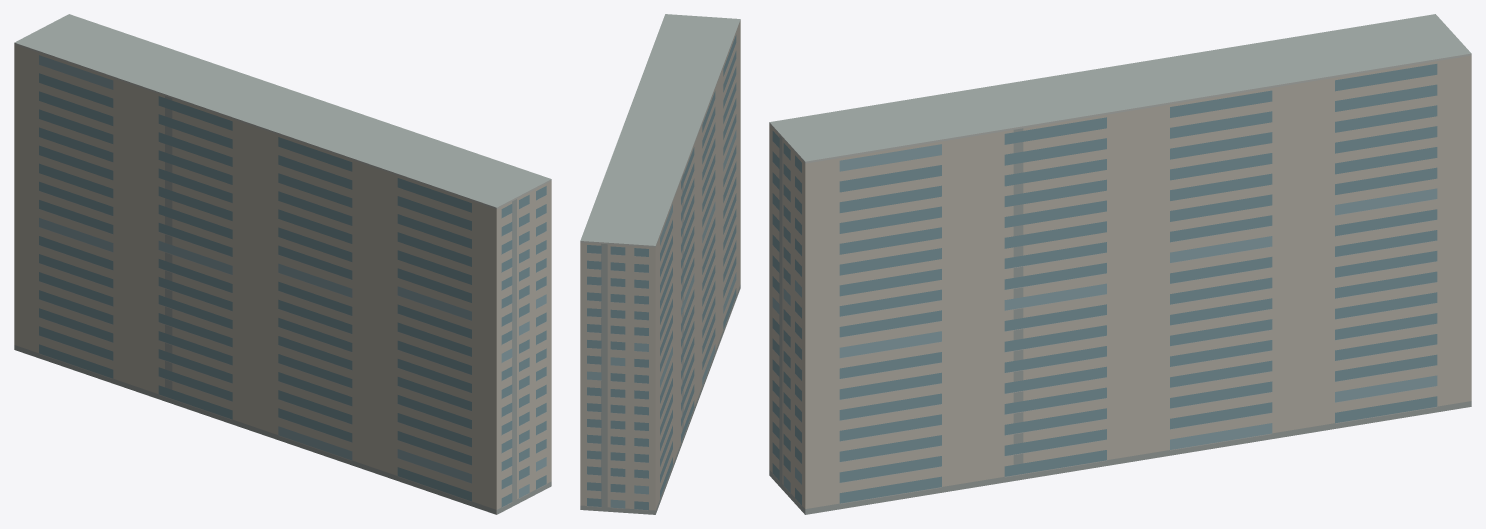
File: residential-4e64c870-2c09-4b4b-a36c-26ba45449ee7.glb
The picture shows the model from 3 angles, left to right: view 1: azimuth 30°, elevation 25°; view 2: azimuth 150°, elevation 25°; view 3: azimuth 270°, elevation 25°; orthographic projection. The views are drawn at different scales.
Visible parts, largest first — view 1: residential-4e64c870-2c09-4b4b-a36c-26ba45449ee7.tmp; view 2: residential-4e64c870-2c09-4b4b-a36c-26ba45449ee7.tmp; view 3: residential-4e64c870-2c09-4b4b-a36c-26ba45449ee7.tmp.
Boxes of the visible parts, x1,y1,x2,y2 form: residential-4e64c870-2c09-4b4b-a36c-26ba45449ee7.tmp: (14, 14, 551, 514); residential-4e64c870-2c09-4b4b-a36c-26ba45449ee7.tmp: (580, 14, 740, 514); residential-4e64c870-2c09-4b4b-a36c-26ba45449ee7.tmp: (769, 14, 1471, 514).
Bounding box in the file's own units: 39.46 × 44 × 79.28.
